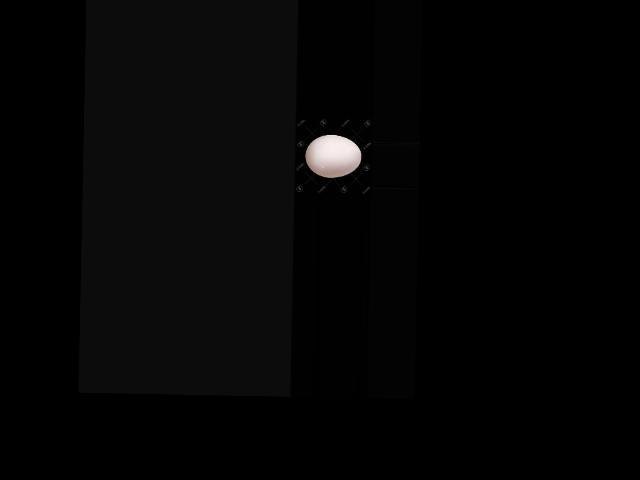egg: (305, 134, 361, 177)
